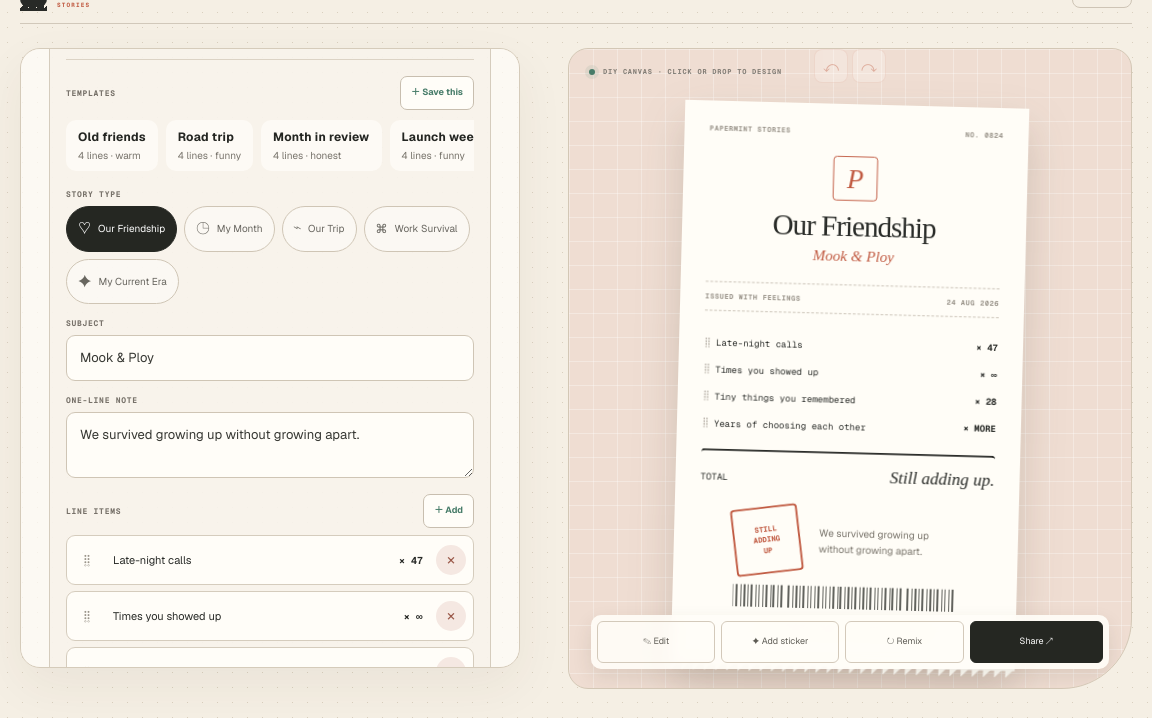
autosave and undo › ctrl+z reverses an edit once it has settled
The image size is (1152, 718).
(page scrolled)
Replace the text in the field labelled "SUBJECT" with "Songs on repeat" at [270, 358], box [66,335,474,381]
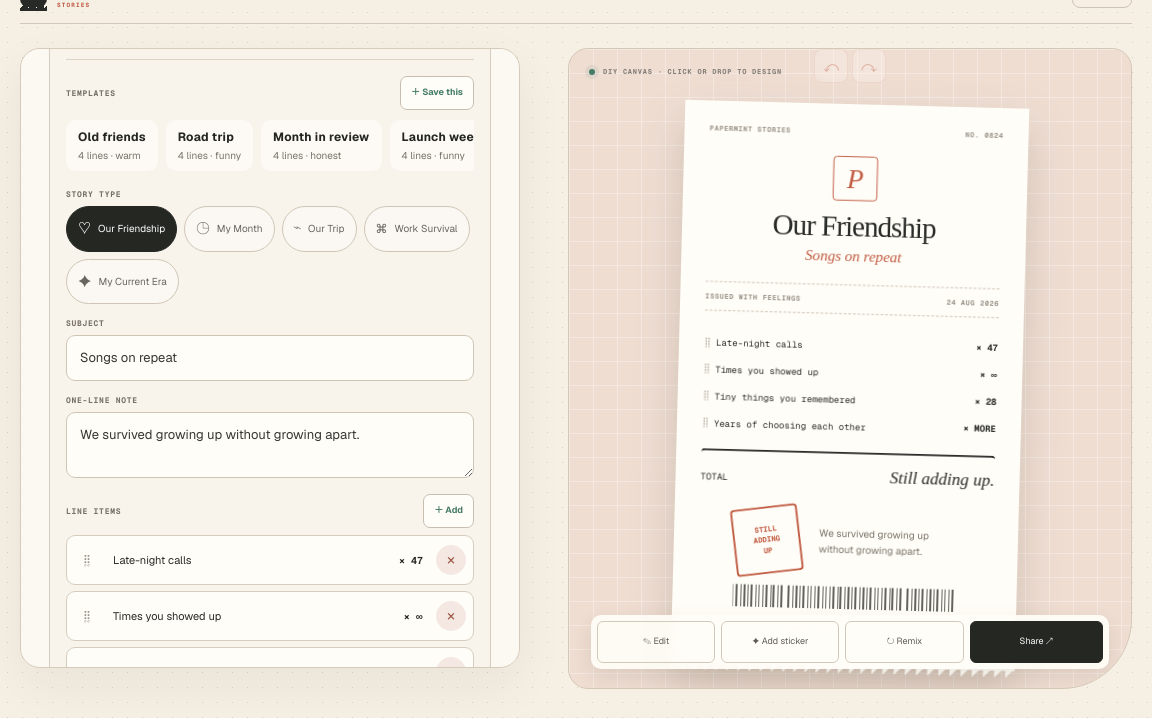
Now the element with id "story-receipt" shows "Songs on repeat", box [805,247,902,266]
Press z
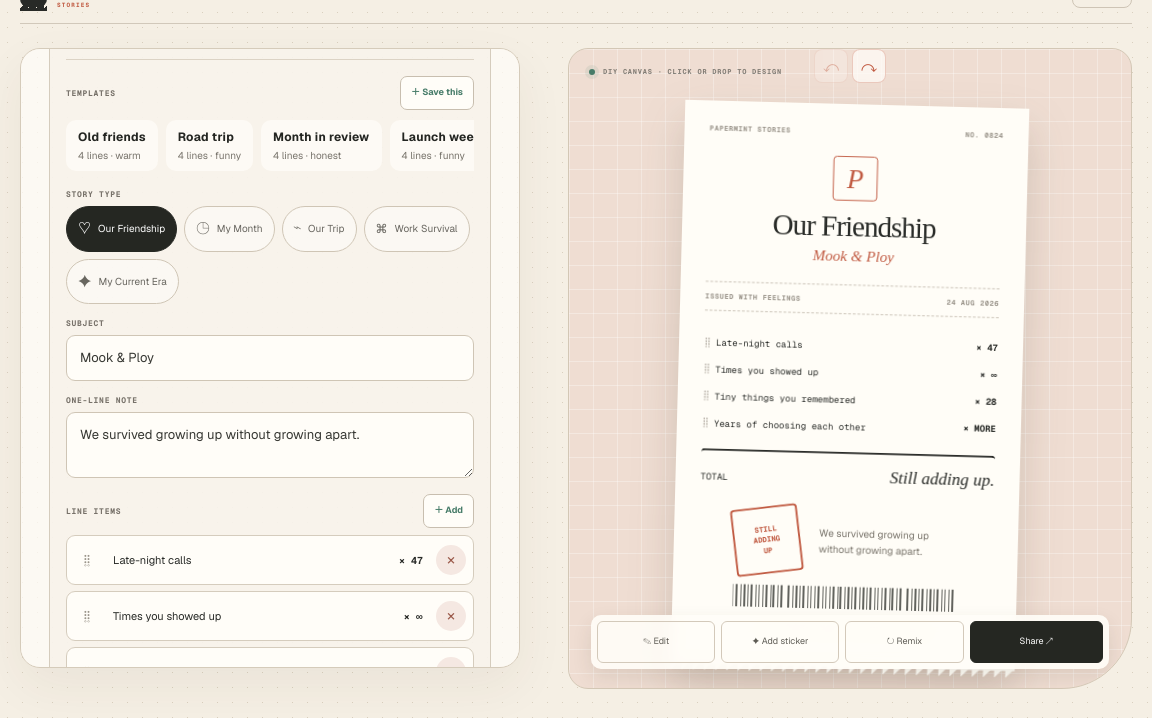
Now the element with id "story-receipt" shows "Mook & Ploy", box [813,247,894,266]
Now the text with id "story-receipt" no longer shows "Songs on repeat"
